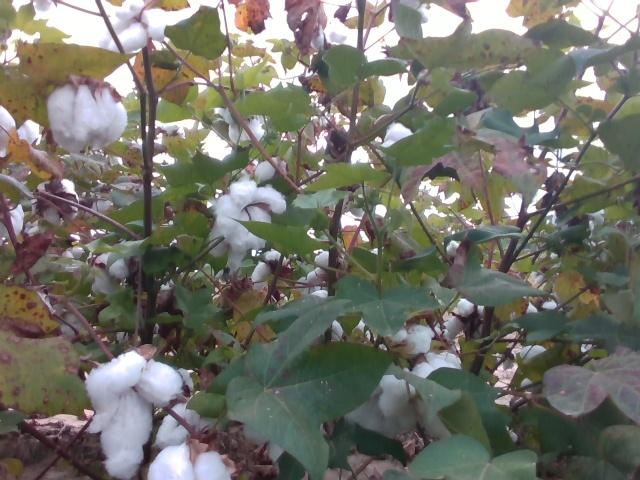cotton_ready: (88, 349, 185, 480), (347, 351, 461, 440), (208, 156, 285, 272), (48, 82, 129, 154), (99, 4, 168, 52), (156, 402, 220, 447), (148, 446, 231, 480), (215, 100, 264, 146), (0, 106, 41, 159), (35, 180, 77, 225), (311, 290, 344, 342), (91, 250, 128, 296), (388, 322, 435, 355), (448, 300, 486, 340), (253, 250, 288, 292), (307, 254, 348, 287), (518, 346, 553, 380), (0, 199, 25, 239), (380, 125, 417, 150), (33, 0, 54, 11)
